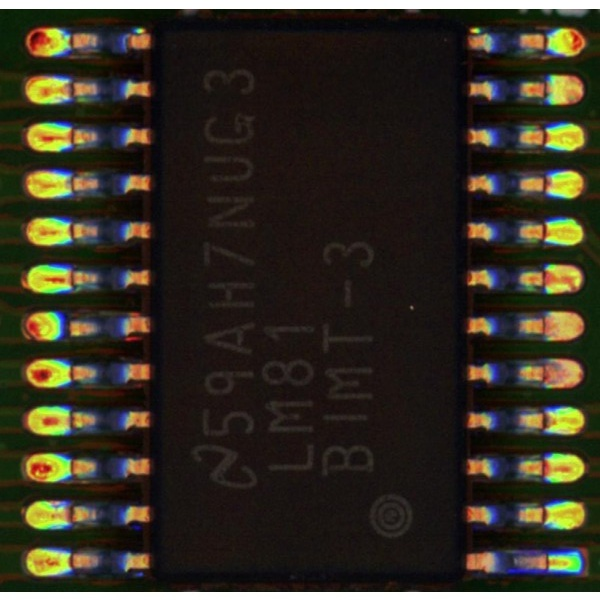Bad_podu: (53, 271, 86, 287), (61, 129, 88, 144), (59, 80, 86, 95), (61, 505, 84, 520), (532, 224, 555, 238), (531, 271, 552, 286), (531, 459, 557, 471), (530, 366, 554, 379), (537, 412, 555, 428), (539, 556, 562, 568), (535, 130, 556, 143), (534, 318, 554, 331), (536, 176, 556, 189)
